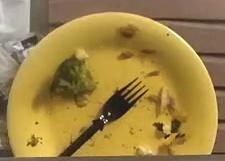broccoli: (50, 55, 96, 95)
